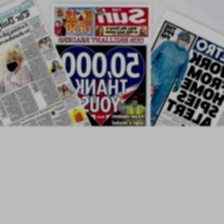news_paper: (0, 0, 95, 136), (51, 0, 151, 129), (136, 7, 224, 125)
